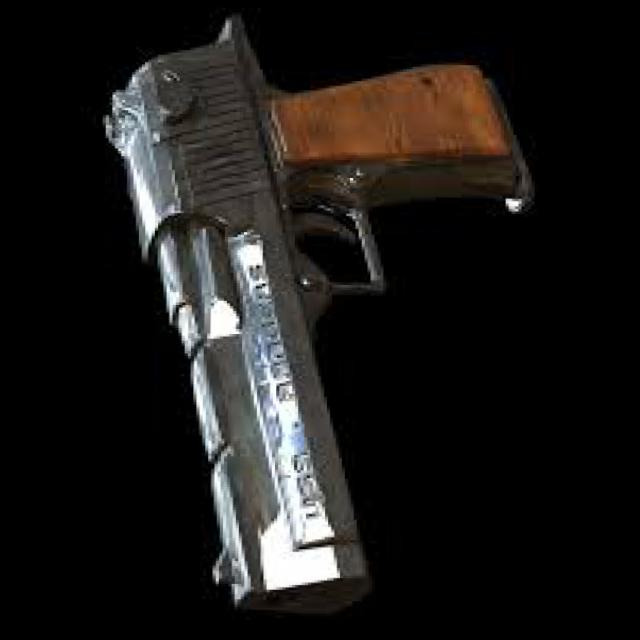handgun: (68, 16, 527, 618)
